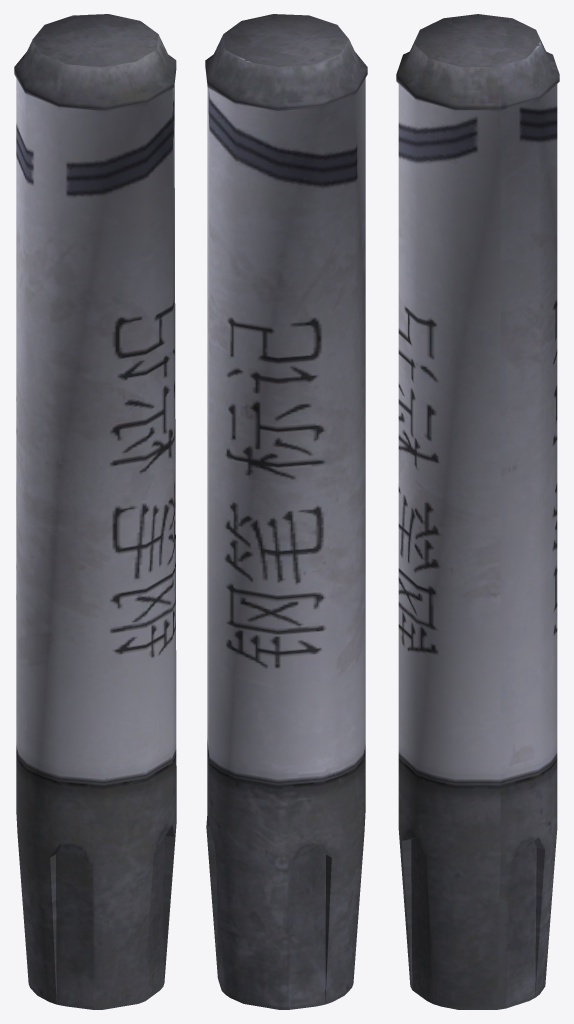
Rendered from pen_marker.DAE.
The picture shows the model from 3 angles, left to right: view 1: azimuth 30°, elevation 25°; view 2: azimuth 150°, elevation 25°; view 3: azimuth 270°, elevation 25°; orthographic projection.
Parts seen in each view (by area): view 1: pen_marker; view 2: pen_marker; view 3: pen_marker.
Part boxes in pixels (x1,y1,x2,y2): pen_marker: (14, 14, 176, 1009); pen_marker: (205, 14, 367, 1009); pen_marker: (396, 14, 559, 1009).
Bounding box in the file's own units: 3.08 × 19.88 × 3.11.
